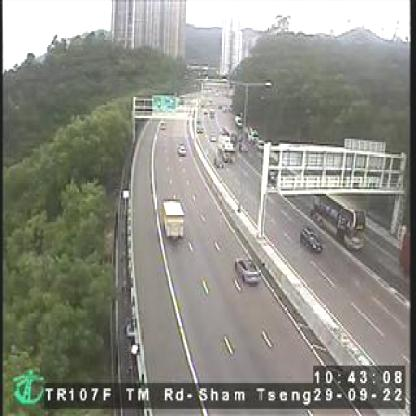Bus: (308, 187, 365, 252)
Car: (299, 223, 324, 256), (233, 256, 257, 281), (212, 156, 226, 168), (177, 140, 187, 156), (194, 122, 205, 134), (208, 106, 216, 119), (158, 120, 164, 130)
Truck: (158, 199, 184, 240), (217, 130, 235, 161)
